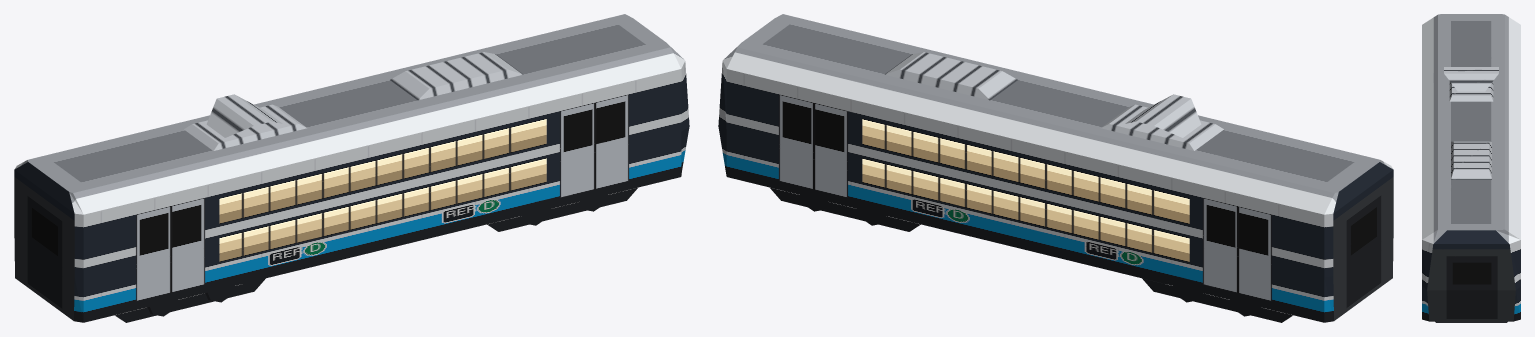
Rendered from rer_generic_D__neutral.glb.
3 views of the same model, side by side, from view 1: azimuth 30°, elevation 25°; view 2: azimuth 150°, elevation 25°; view 3: azimuth 270°, elevation 25° (orthographic). The views are drawn at different scales.
Visible parts, largest first — view 1: rer_generic_D__neutral; view 2: rer_generic_D__neutral; view 3: rer_generic_D__neutral.
Part boxes in pixels (box(x1,y1,x2,y2)): rer_generic_D__neutral: box(14, 14, 689, 322); rer_generic_D__neutral: box(718, 14, 1393, 322); rer_generic_D__neutral: box(1422, 14, 1520, 322).
Bounding box in the file's own units: 14.86 × 3.67 × 2.8.
Materials: 1 (1 with a texture image).
